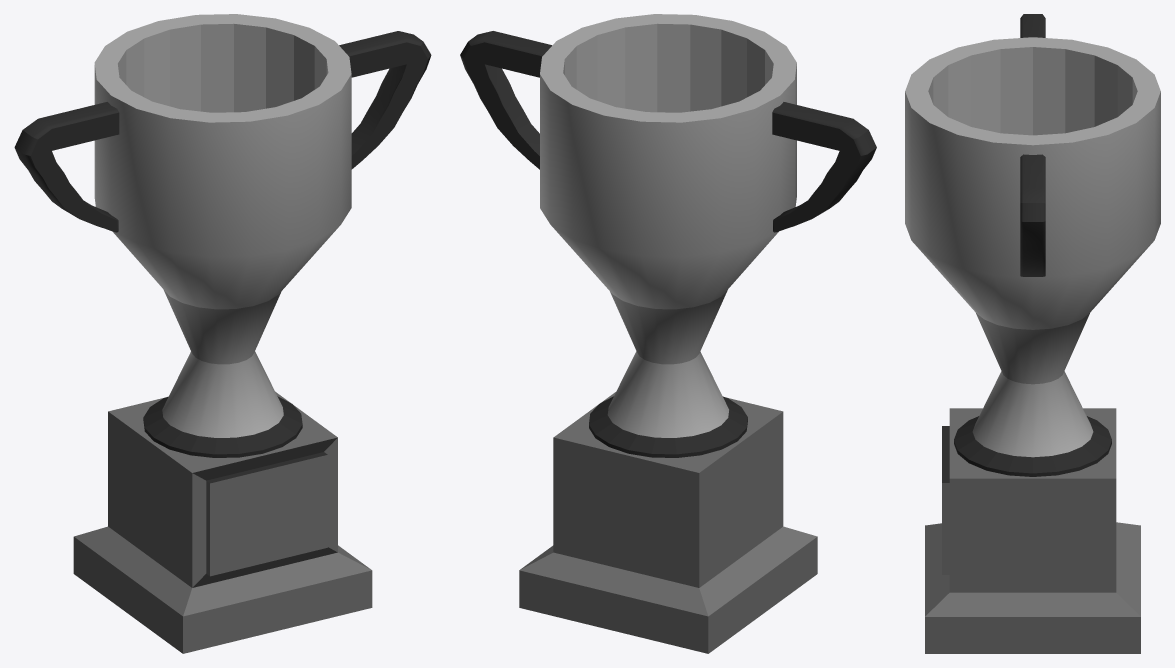
Rendered from TrophyModel.fbx.
3 views of the same model, side by side, from view 1: azimuth 30°, elevation 25°; view 2: azimuth 150°, elevation 25°; view 3: azimuth 270°, elevation 25° (orthographic).
Visible parts, largest first — view 1: TrophyModel; view 2: TrophyModel; view 3: TrophyModel.
Boxes of the visible parts, bbox=[...] form: TrophyModel: bbox=[14, 14, 431, 653]; TrophyModel: bbox=[460, 14, 876, 653]; TrophyModel: bbox=[905, 14, 1160, 653].
Size of the model in its own units: 76.95 by 94.32 by 42.27.
